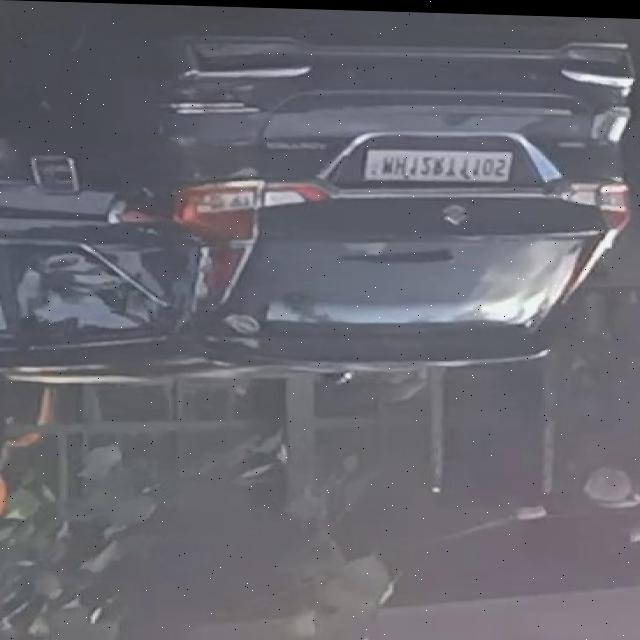plate: (359, 144, 515, 186)
